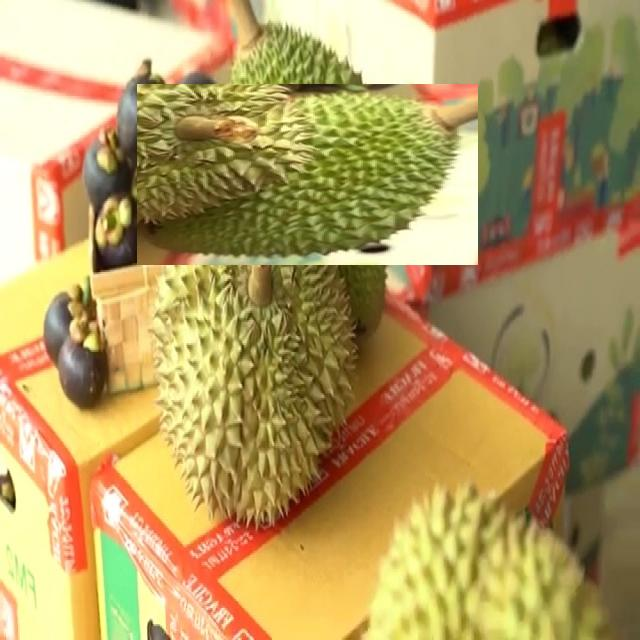durian: (143, 161, 365, 536), (177, 44, 438, 305), (352, 476, 616, 638)
